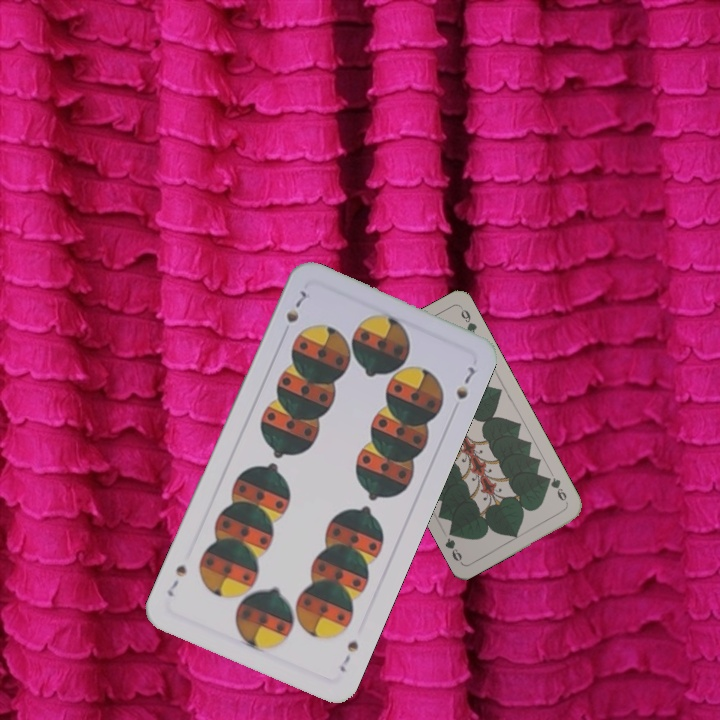G9: (542, 469, 571, 507)
S7: (282, 286, 309, 326), (335, 636, 361, 675)
